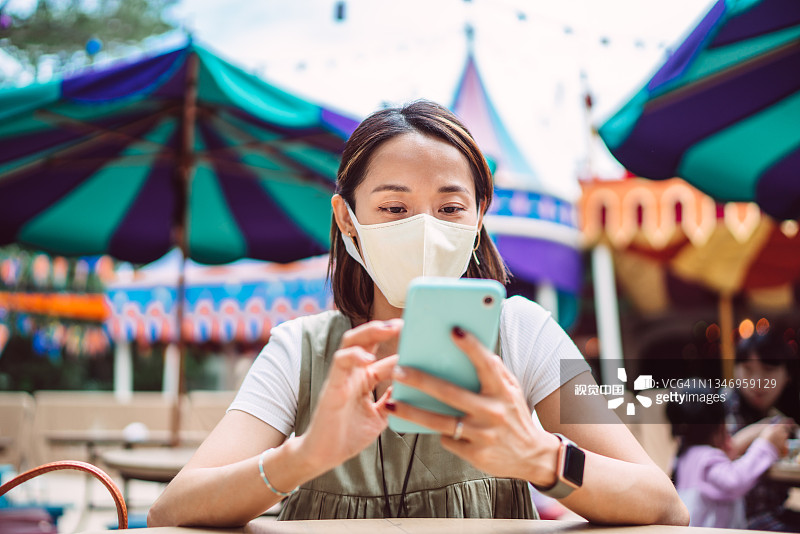reading: (289, 266, 555, 501)
